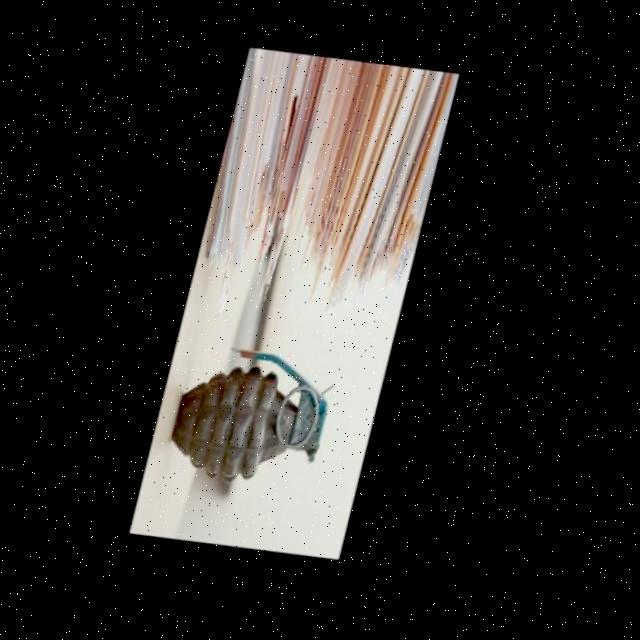grenade: (150, 311, 355, 510)
